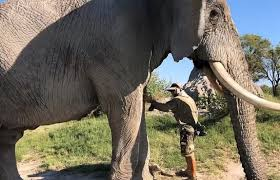Elephant: (3, 0, 280, 179)
